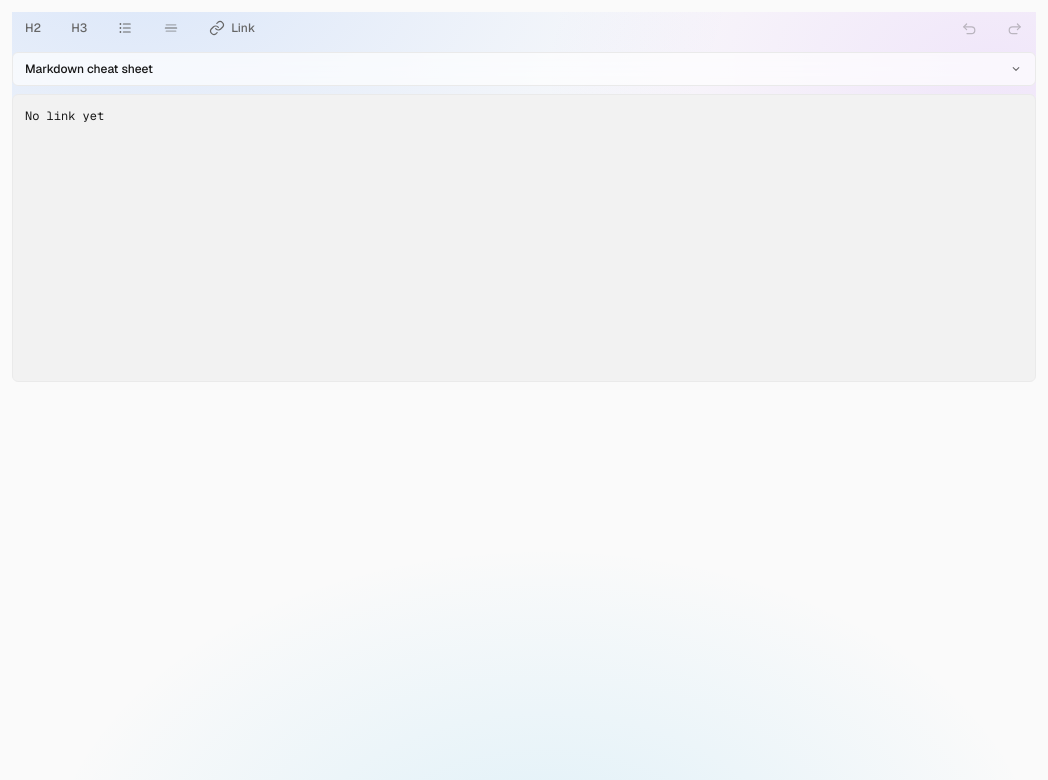
Test: MarkdownEditor › drops in the placeholder when nothing is selected, with the label to type over
What coordinates should you click on to do the following:
click the button "Link"
I would click on:
 (232, 28)
Its box is [196,12,268,44].
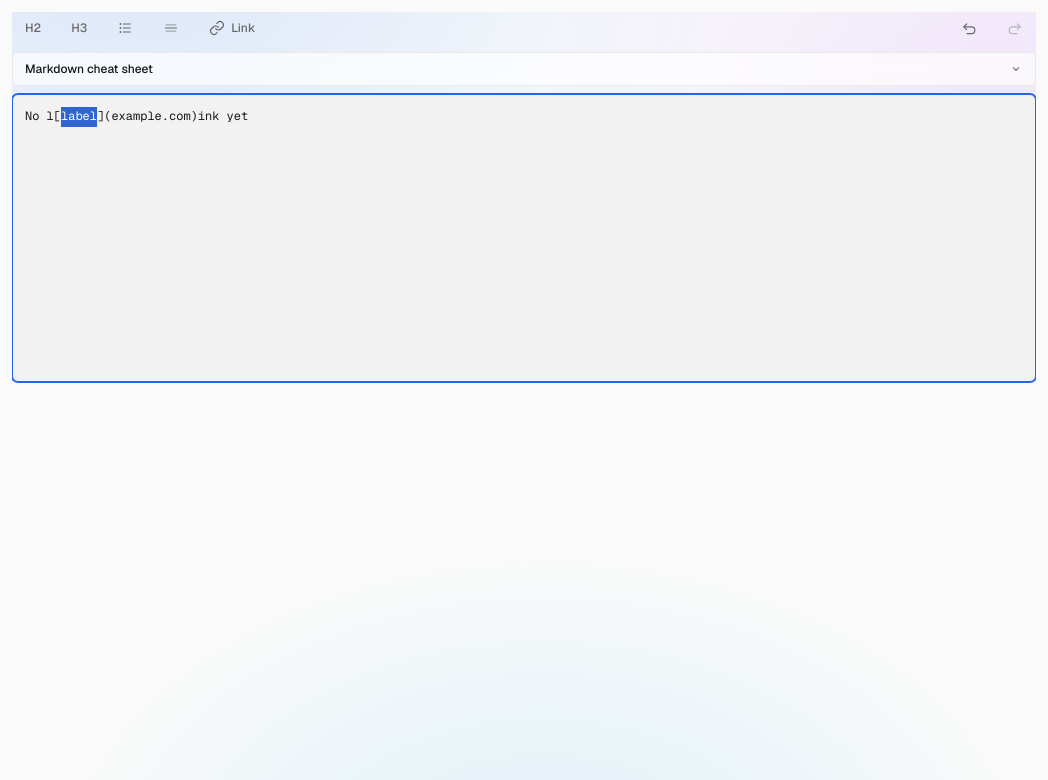
Expected: the text box named "resume markdown" holds "No l[label](example.com)ink yet", [12,94,1036,382]
